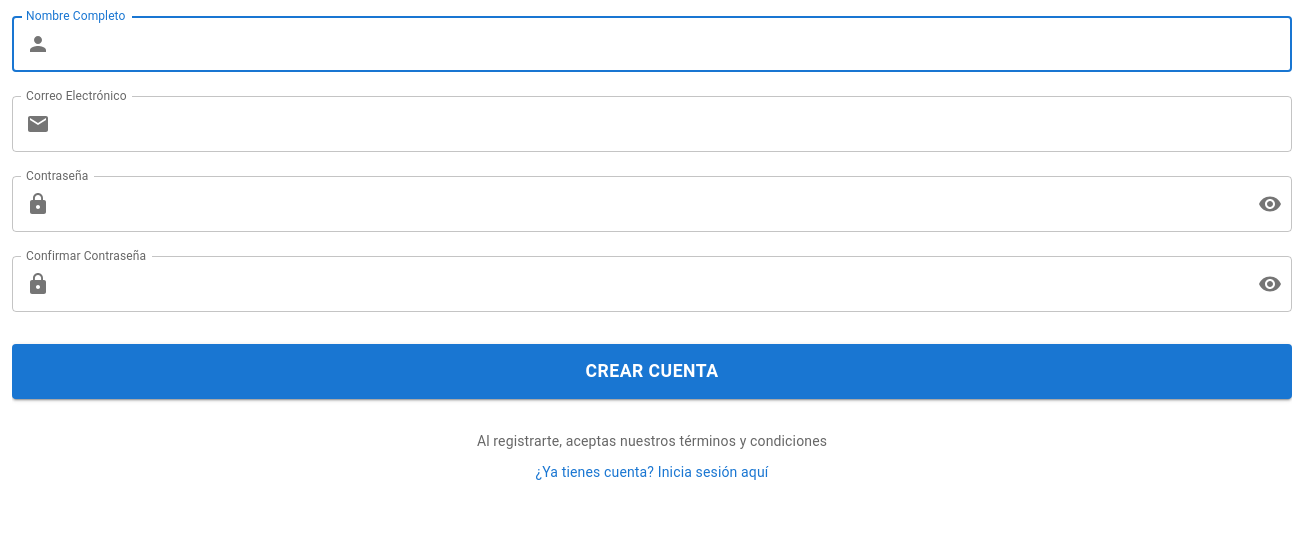
Test: RegisterForm › Password Strength Indicator › shows password strength indicator when typing password
This screenshot has width=1304, height=542.
Type "weak" into the password field labelled "Contraseña" at (650, 204), box [58,176,1242,232]
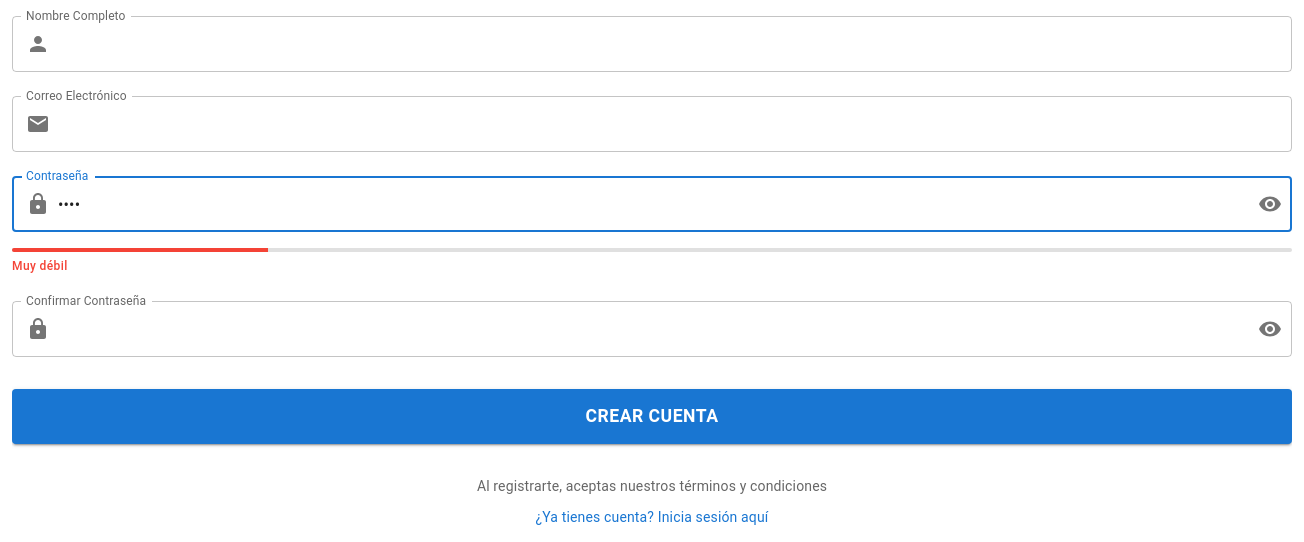
Expected: the text "Muy débil" is shown, [12,259,68,273]
